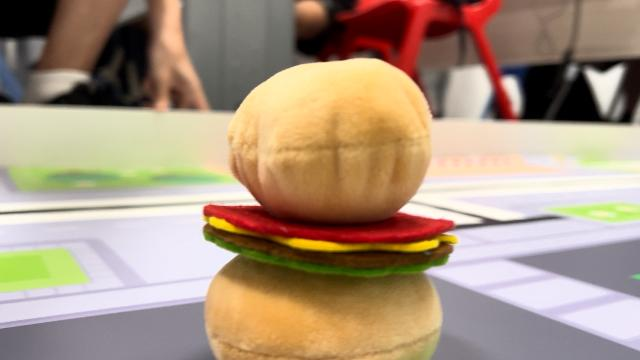burger: (202, 60, 456, 360)
